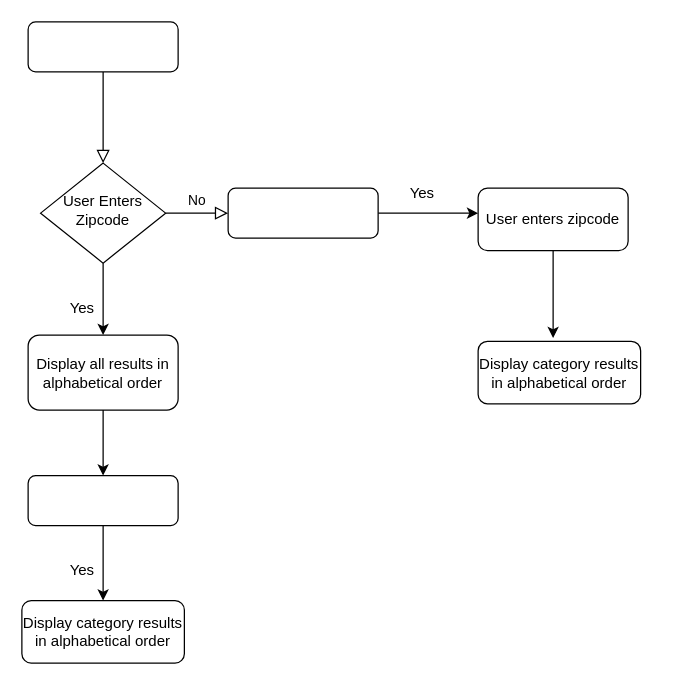
This 698x685 diagram has some shape labels left out. The centre of each missing label's shape, as x and y in pixels:
"Home Page" goes at (x=102, y=46).
"User filters by category" goes at (x=102, y=500).
"User Selects a featured category" goes at (x=302, y=212).
